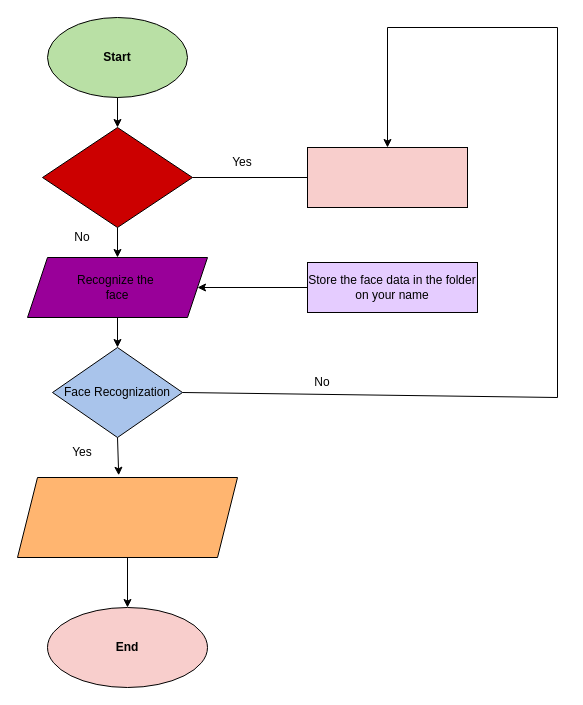
Image size: 583x705. Some labels were removed from this diagram. The shapes that lost their labels are listed below. From the top down, each one's centre as x and y in pixels, then its label:
point 117,177: New User?
point 387,177: Give Your Photograph
point 127,517: store with csv file with registration number and date ,time of entry
